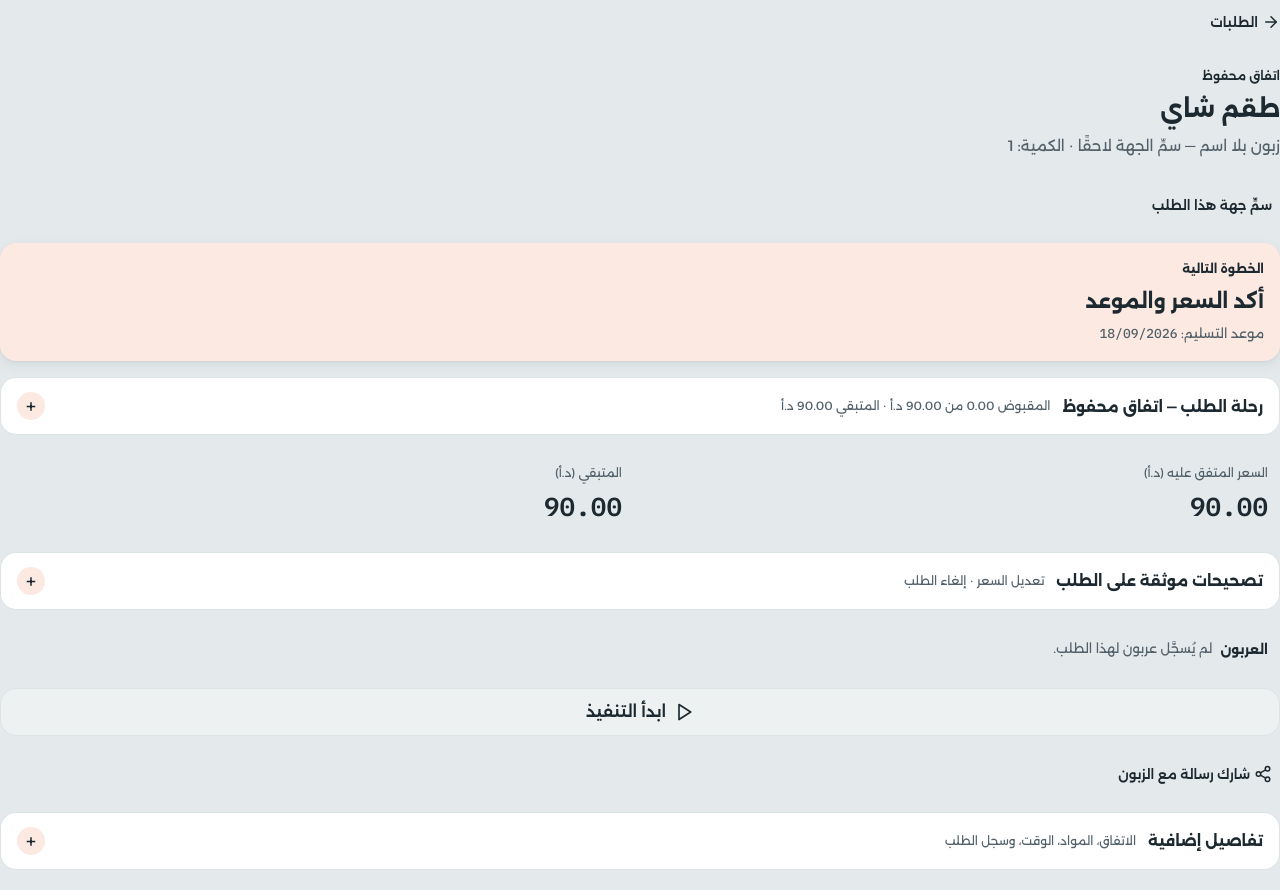
Scenario: OrderDetail mid-journey deposit panel (عقد الإغلاق العميق — العقد ٣) › names an unnamed order party once from the order page
The image size is (1280, 890).
Click the button with test id "assign-party-opener".
click(1212, 206)  # box 1144,184 -> 1279,228
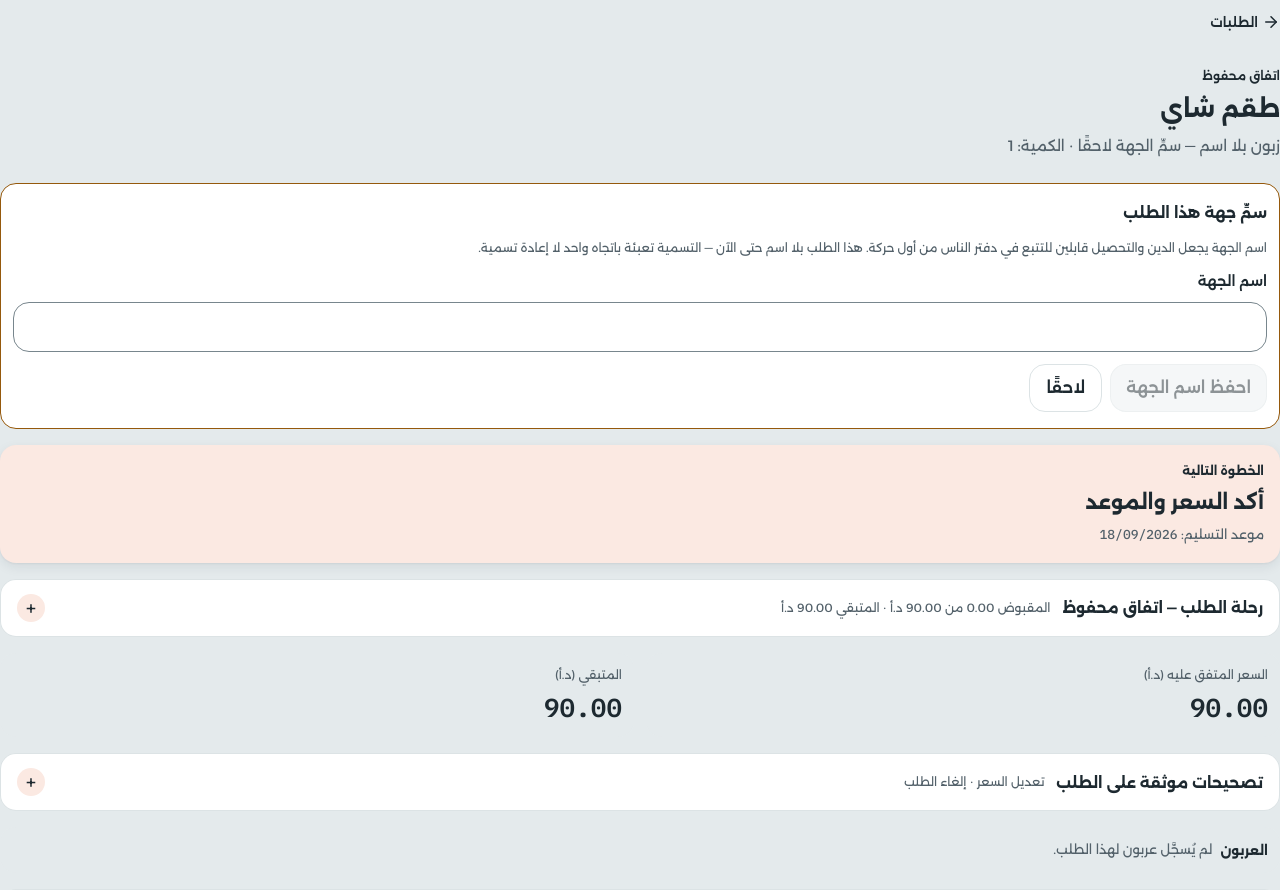
Type "آمنة" into the field labelled "اسم الجهة".
click(640, 327); type("آمنة")  # box 13,302 -> 1267,352
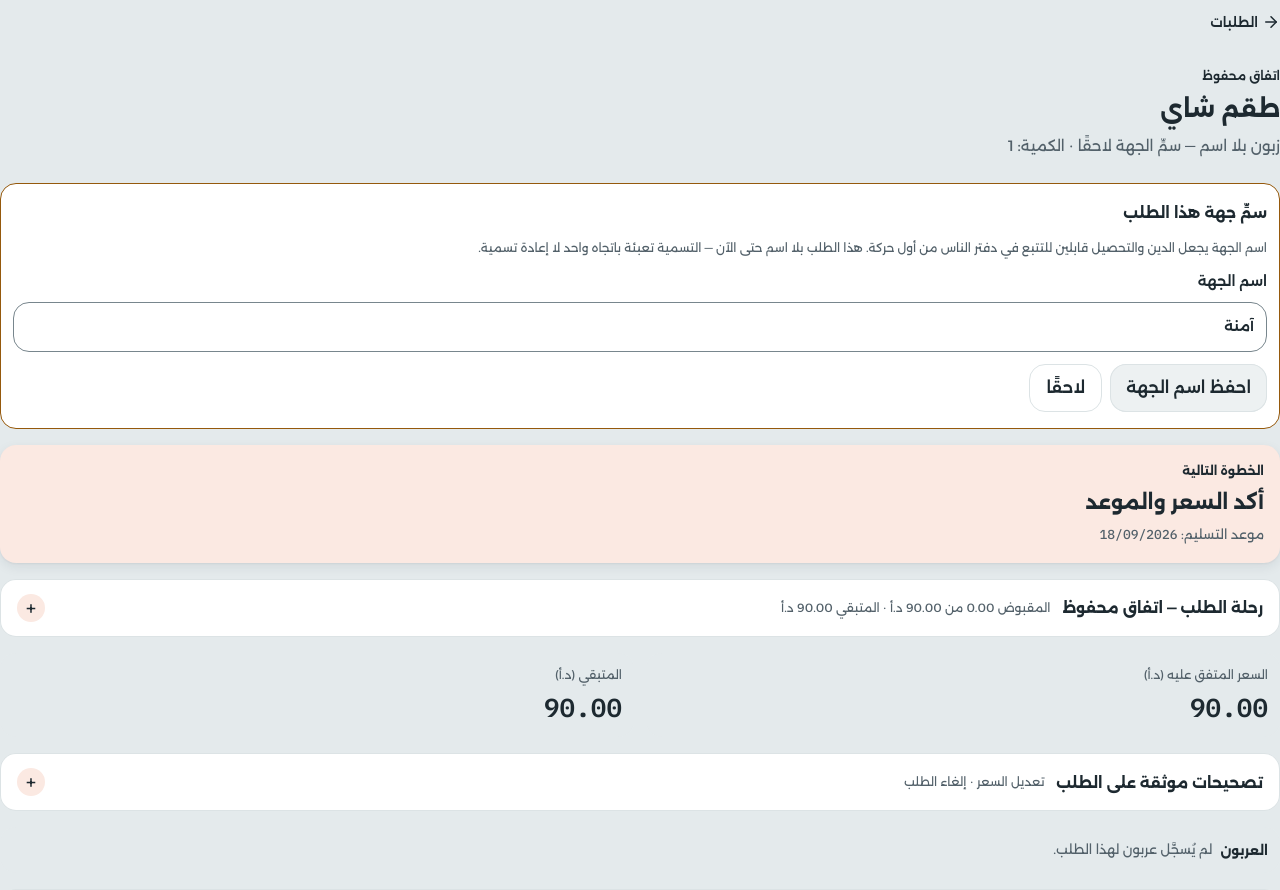
Click the button "احفظ اسم الجهة".
click(1189, 388)  # box 1110,364 -> 1267,412
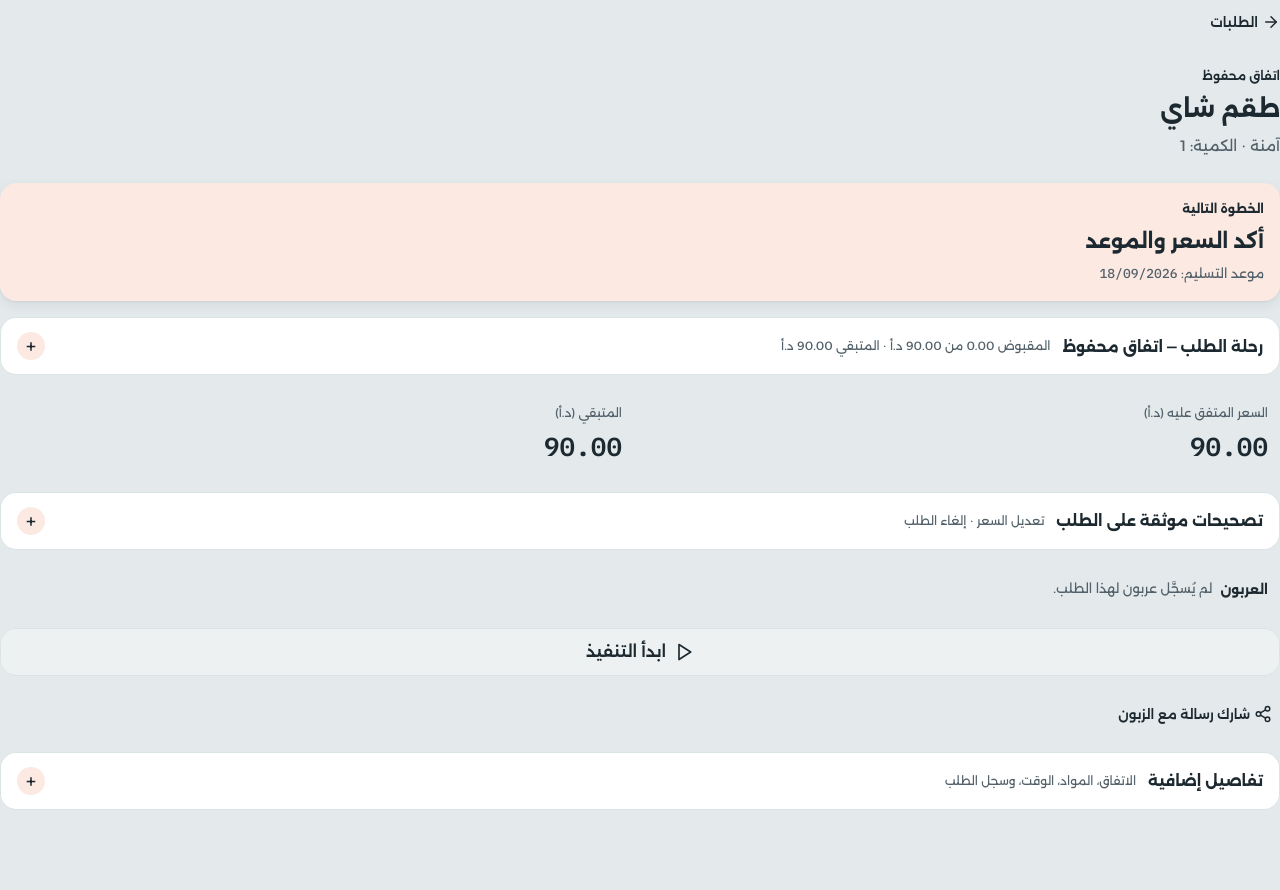
Result: the text "آمنة" is shown at 1250,136 -> 1279,156
